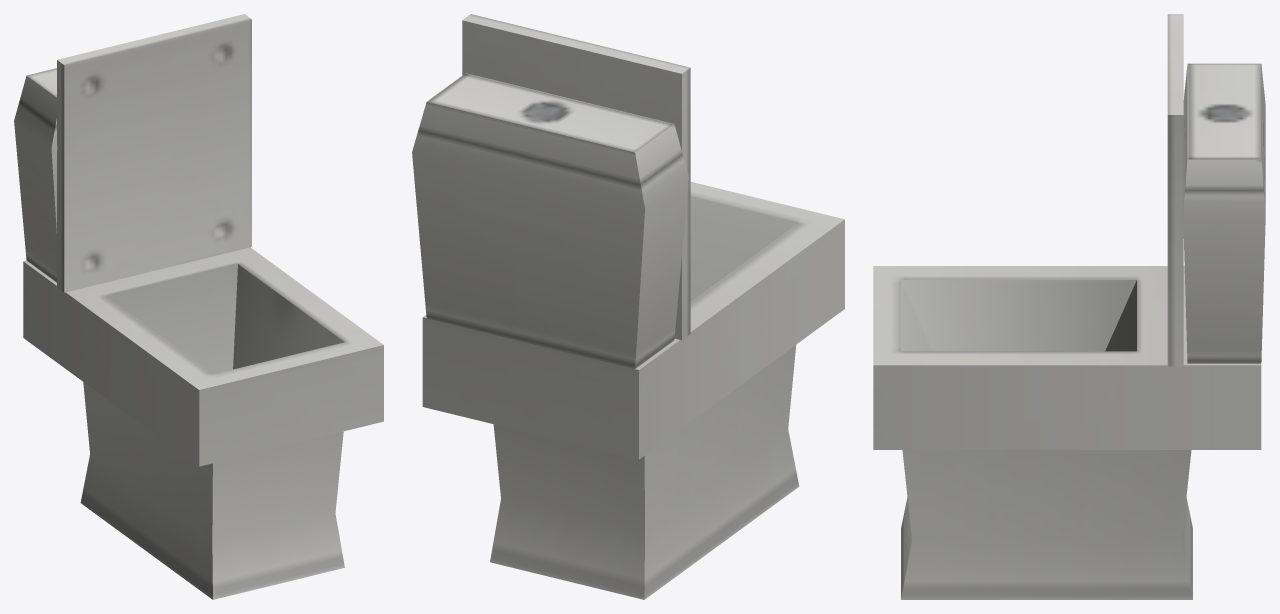
Rendered from Toilet_Seat_2.fbx.
3 views of the same model, side by side, from view 1: azimuth 30°, elevation 25°; view 2: azimuth 150°, elevation 25°; view 3: azimuth 270°, elevation 25° (orthographic). The views are drawn at different scales.
Parts seen in each view (by area): view 1: polySurface1546; view 2: polySurface1546; view 3: polySurface1546.
Part boxes in pixels (box(x1,y1,x2,y2)): polySurface1546: box(14, 14, 383, 599); polySurface1546: box(412, 14, 844, 599); polySurface1546: box(873, 14, 1265, 599).
Bounding box in the file's own units: 0.3133 × 0.6813 × 0.4849.
